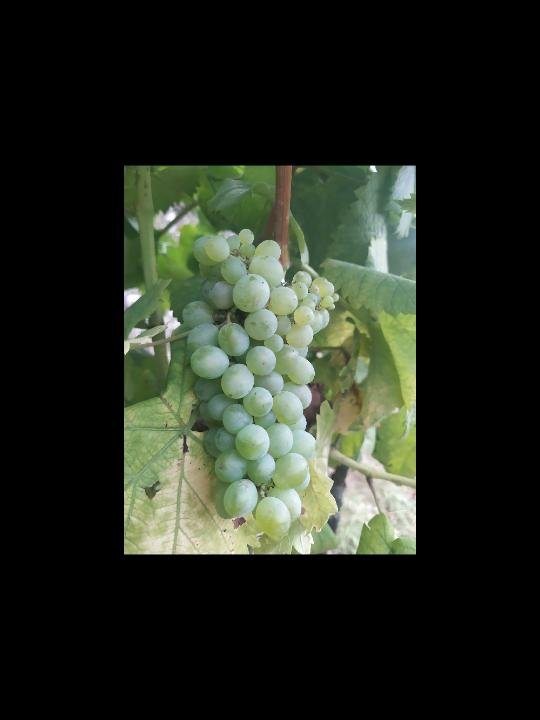grape: (180, 228, 341, 538)
